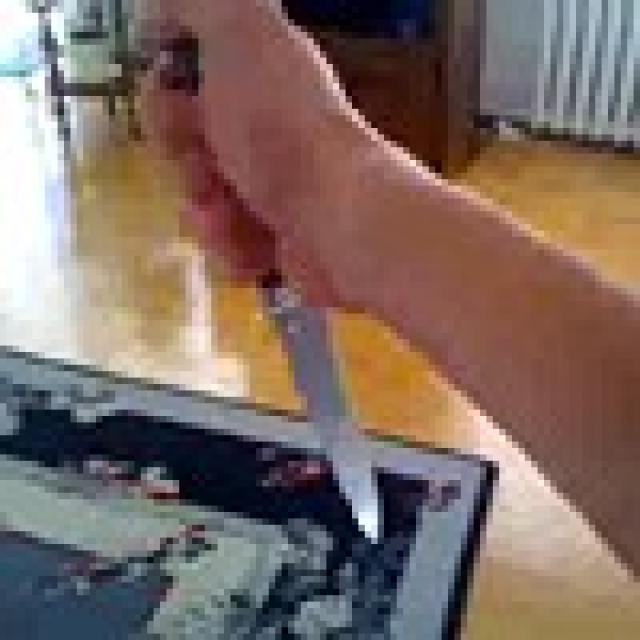Knife_Handle: (144, 0, 381, 544)
